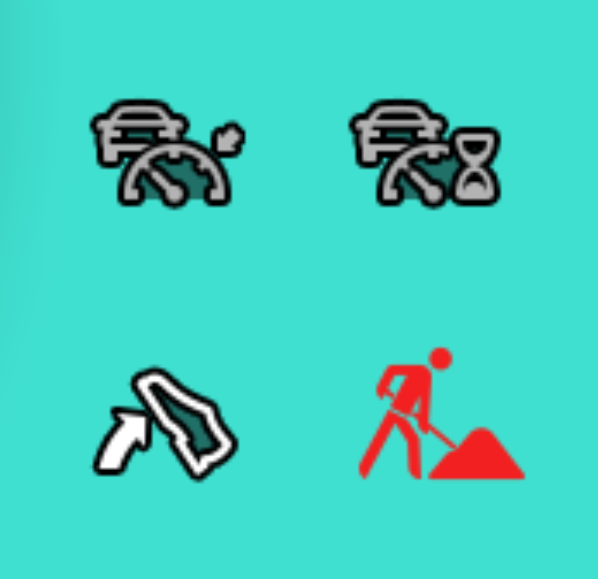ACCELERATOR: (69, 345, 265, 501)
ACC_AKTIV: (74, 78, 267, 239)
ACC_WAITING: (332, 81, 517, 231)
CONSTRUCTION: (350, 323, 559, 493)
